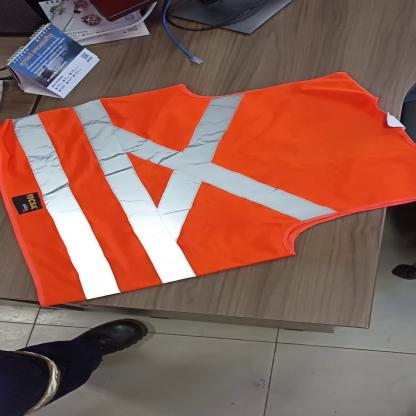colete: (0, 68, 416, 312)
